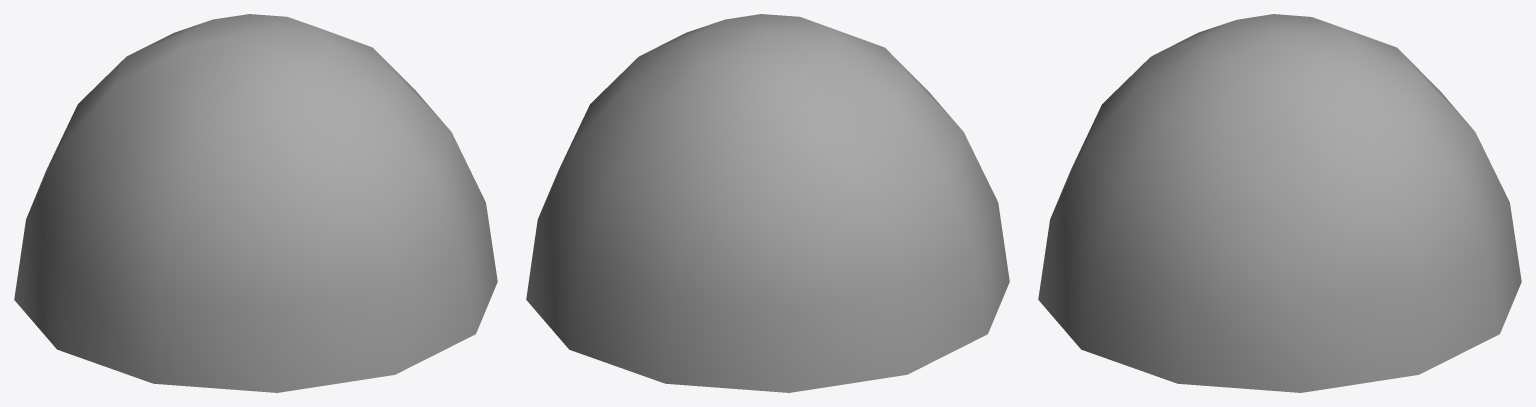
File: env_lau_cargo_docks_pre.glb
The picture shows the model from 3 angles, left to right: view 1: azimuth 30°, elevation 25°; view 2: azimuth 150°, elevation 25°; view 3: azimuth 270°, elevation 25°; orthographic projection.
Parts seen in each view (by area): view 1: lau_cargo_docks_skybox; view 2: lau_cargo_docks_skybox; view 3: lau_cargo_docks_skybox.
Boxes of the visible parts, box(x1,y1,x2,y2) form: lau_cargo_docks_skybox: box(14, 14, 497, 392); lau_cargo_docks_skybox: box(526, 14, 1009, 392); lau_cargo_docks_skybox: box(1038, 14, 1521, 392).
Bounding box in the file's own units: 162 × 95.16 × 162.
Materials: 27 (27 with a texture image).
